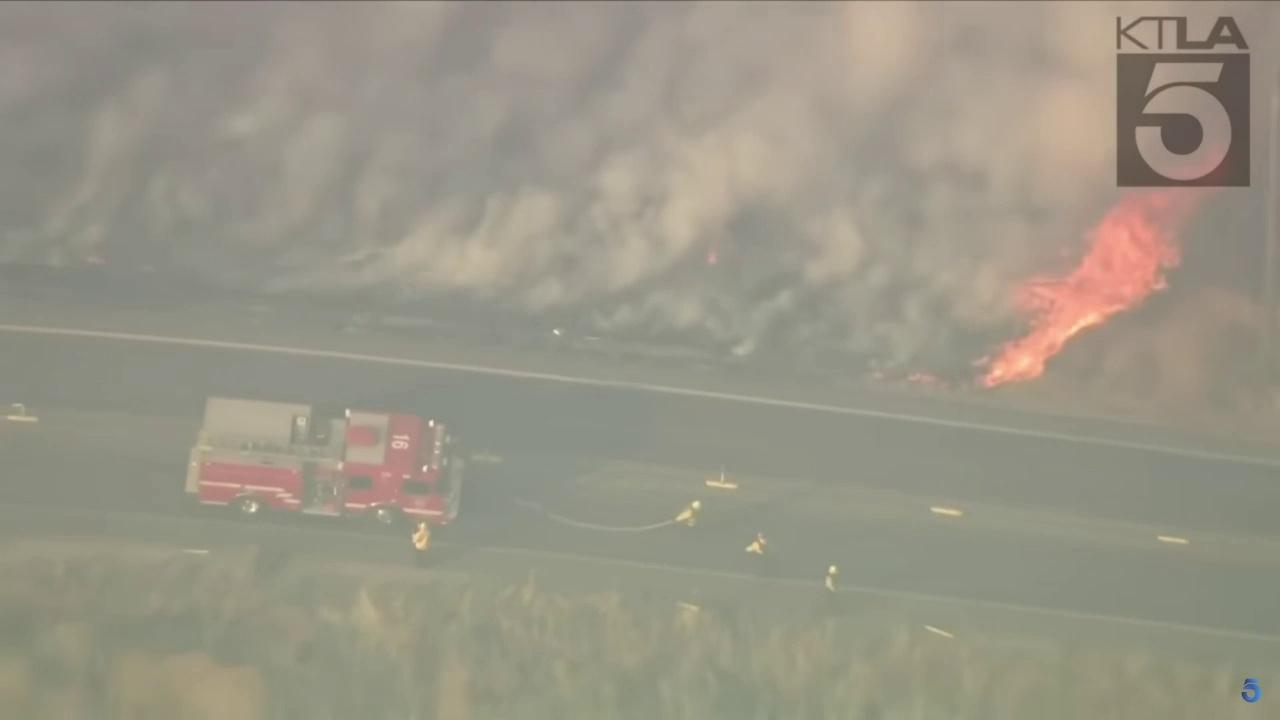fire: (972, 186, 1210, 391), (707, 252, 720, 264)
smoke: (0, 0, 1120, 390)
